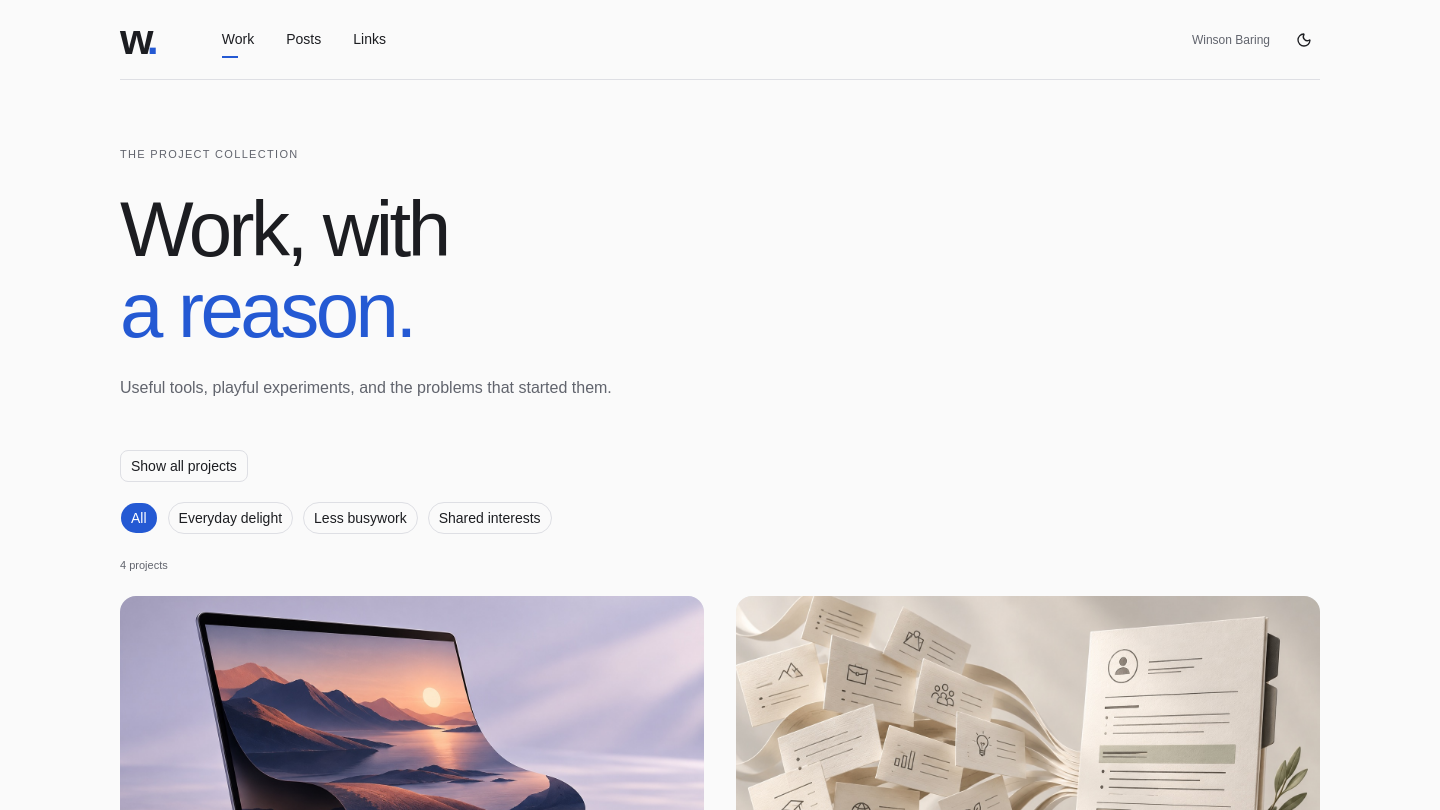
Scenario: Portfolio visitor paths › filters work by use case
This screenshot has width=1440, height=810.
Click the button "Everyday delight".
click(230, 518)  # box left=168, top=502, right=293, bottom=534
(page scrolled)
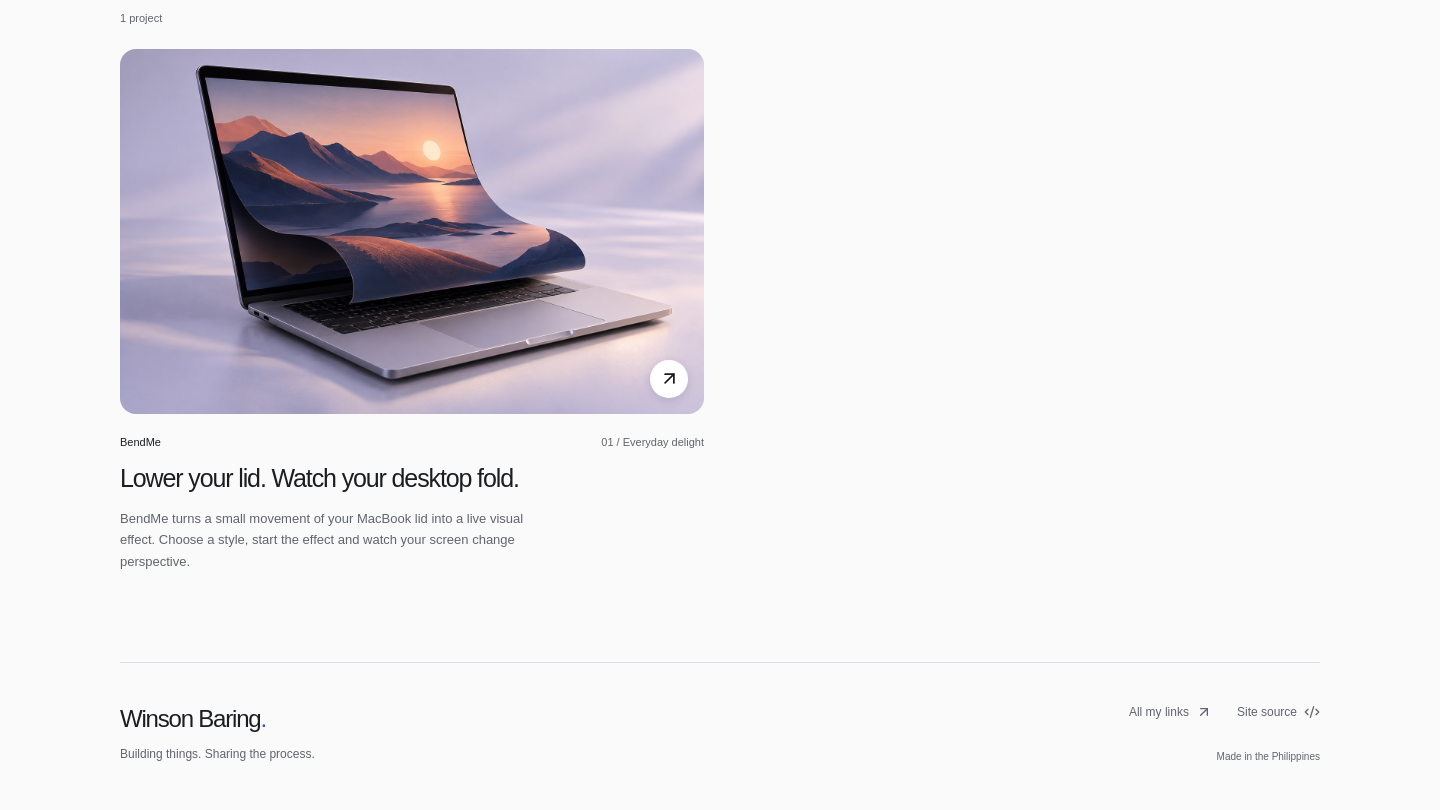
Expected: the heading "Lower your lid. Watch your desktop fold." is shown, left=120, top=464, right=519, bottom=492
Expected: the message reads "1 project", left=120, top=12, right=162, bottom=24
